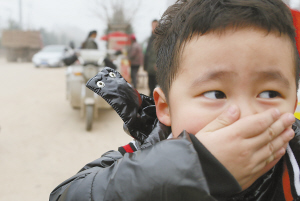face: (173, 36, 297, 177)
